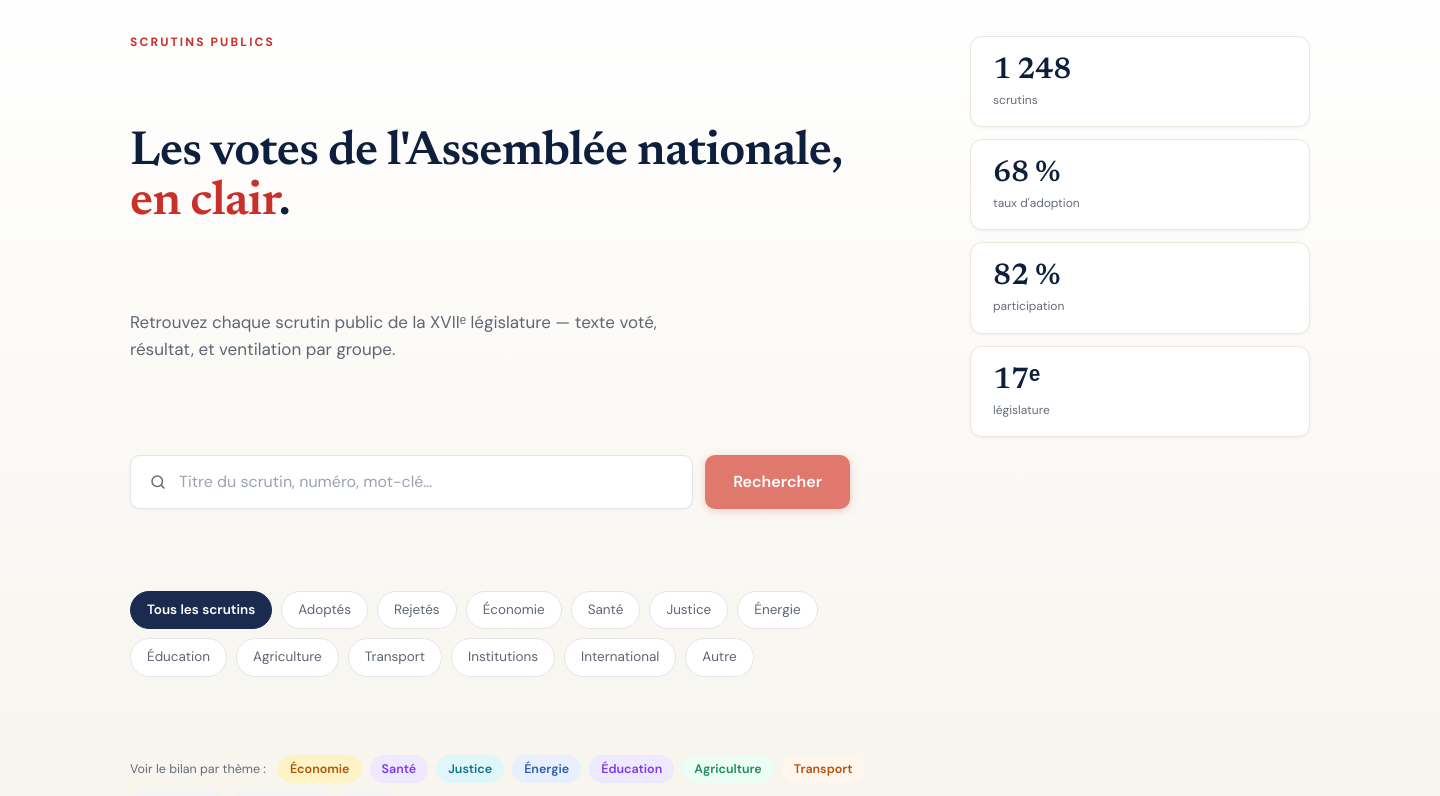
Test: VotesClient loading treatment (MON-215) › shows subtle inline activity between the no-indicator and skeleton thresholds
This screenshot has width=1440, height=796.
What coordinates should you click on to do the following:
click the button "Adoptés"
I would click on:
 (325, 610)
Its box is x1=281 y1=591 x2=368 y2=630.
Wait 250 ms
(page scrolled)
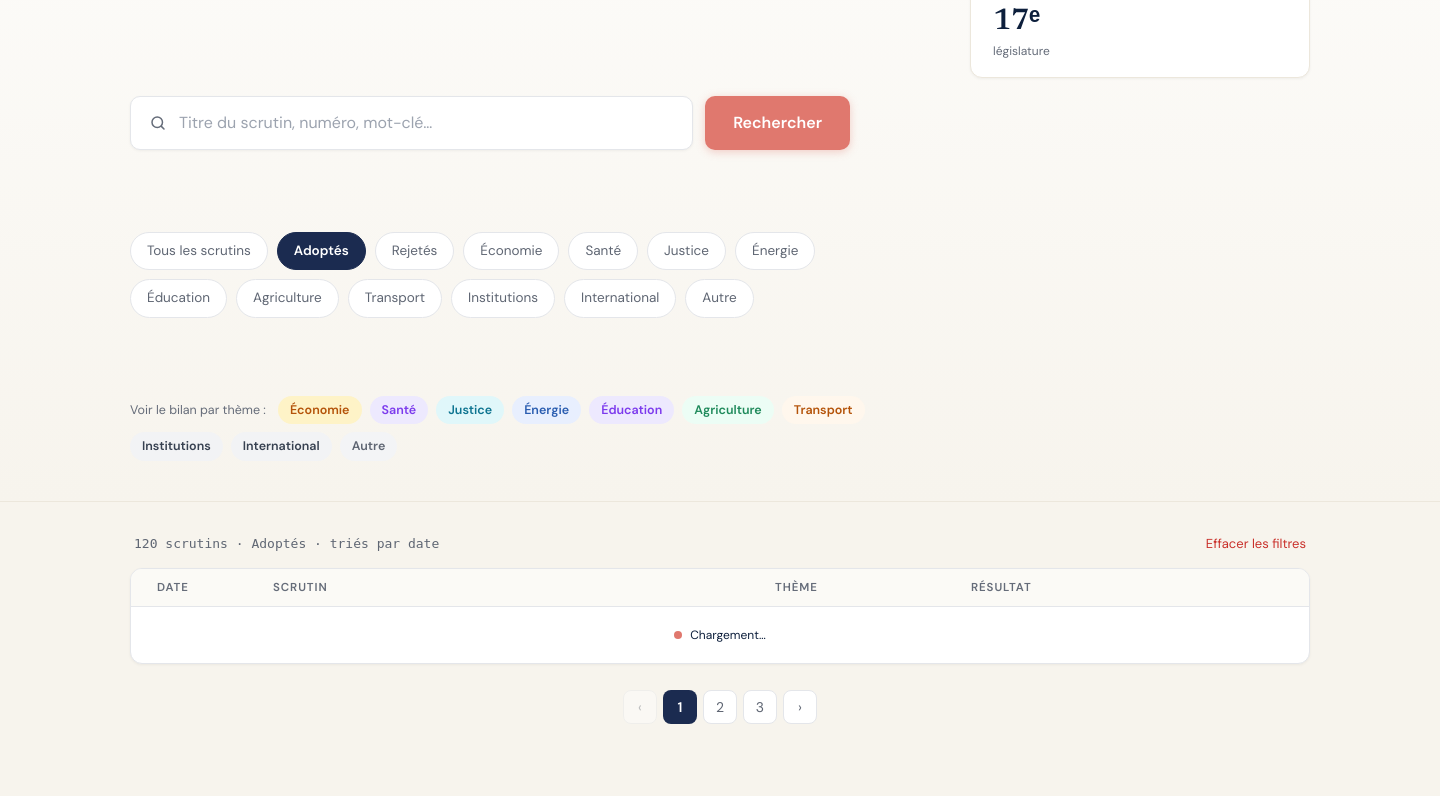
Now the message reads "Chargement…", box x1=690 y1=627 x2=766 y2=643
